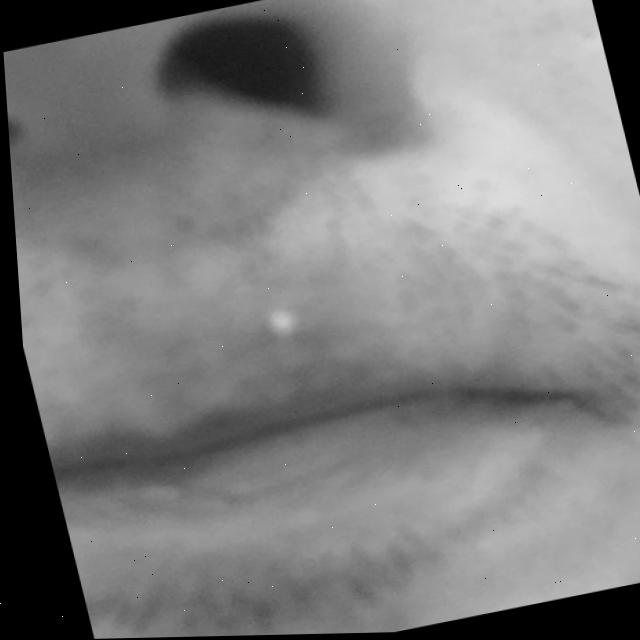Acne: (274, 313, 315, 337)
